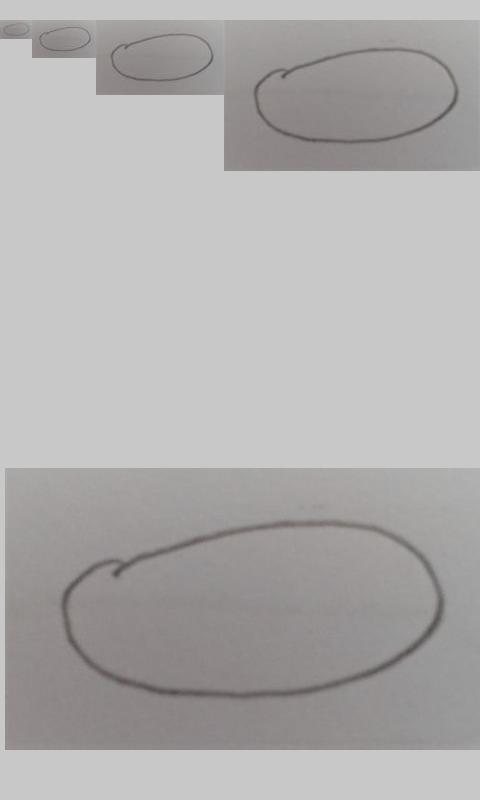chip: (62, 521, 445, 700), (254, 47, 459, 144), (111, 33, 215, 82), (39, 27, 91, 52), (3, 22, 30, 37)
